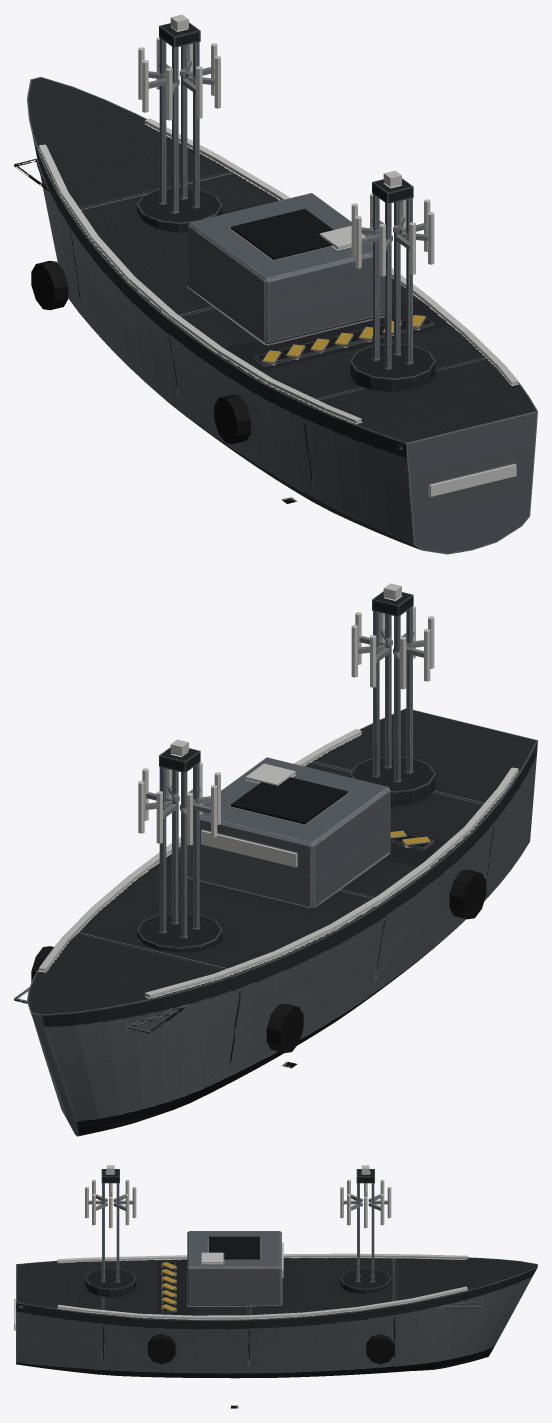
Rendered from chs_siren.fbx.
3 renders of one model, top to bottom at view 1: azimuth 30°, elevation 25°; view 2: azimuth 150°, elevation 25°; view 3: azimuth 270°, elevation 25°, orthographic. The views are drawn at different scales.
Visible parts, largest first — view 1: base_bar, turret2_bar, turret1_bar, base_glow_running_bar, turret2_glow_power_bar, turret1_glow_power_bar; view 2: base_bar, turret1_bar, turret2_bar, base_glow_running_bar, turret2_glow_power_bar, turret1_glow_power_bar, base_glow_power_bar; view 3: base_bar, base_glow_running_bar, turret2_bar, turret1_bar, turret2_glow_power_bar, turret1_glow_power_bar.
Boxes of the visible parts, x1,y1,x2,y2 form: base_bar: (14,77,537,554); turret2_bar: (350,178,435,391); turret1_bar: (137,22,222,232); base_glow_running_bar: (39,118,518,496); turret2_glow_power_bar: (351,193,434,276); turret1_glow_power_bar: (138,37,220,120); base_bar: (14,708,537,1136); turret1_bar: (137,747,222,952); turret2_bar: (350,591,435,807); base_glow_running_bar: (39,729,518,997); turret2_glow_power_bar: (351,606,434,689); turret1_glow_power_bar: (138,762,220,845); base_glow_power_bar: (245,763,295,785); base_bar: (16,1231,537,1378); base_glow_running_bar: (14,1242,467,1330); turret2_bar: (85,1169,136,1297); turret1_bar: (340,1169,391,1293); turret2_glow_power_bar: (85,1179,136,1228); turret1_glow_power_bar: (340,1179,391,1228).
Bounding box in the file's own units: 472 × 728 × 1438.
Materials: 2 (2 with a texture image).
